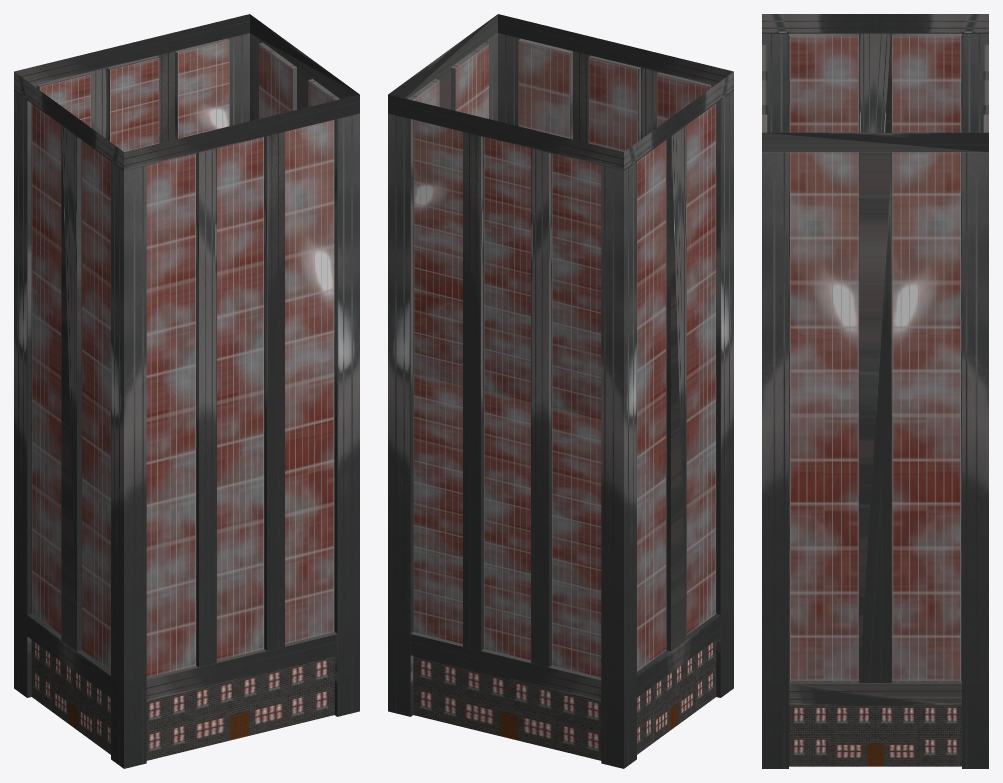
File: Building - 4.FBX
3 renders of one model, left to right at view 1: azimuth 30°, elevation 25°; view 2: azimuth 150°, elevation 25°; view 3: azimuth 270°, elevation 25°, orthographic. The views are drawn at different scales.
Visible parts, largest first — view 1: Box01; view 2: Box01; view 3: Box01.
Part boxes in pixels (box(x1,y1,x2,y2)): Box01: box(14, 14, 359, 768); Box01: box(388, 14, 733, 768); Box01: box(762, 14, 988, 768).
Size of the model in its own units: 26 by 21 by 65.
Materials: 1 (1 with a texture image).
